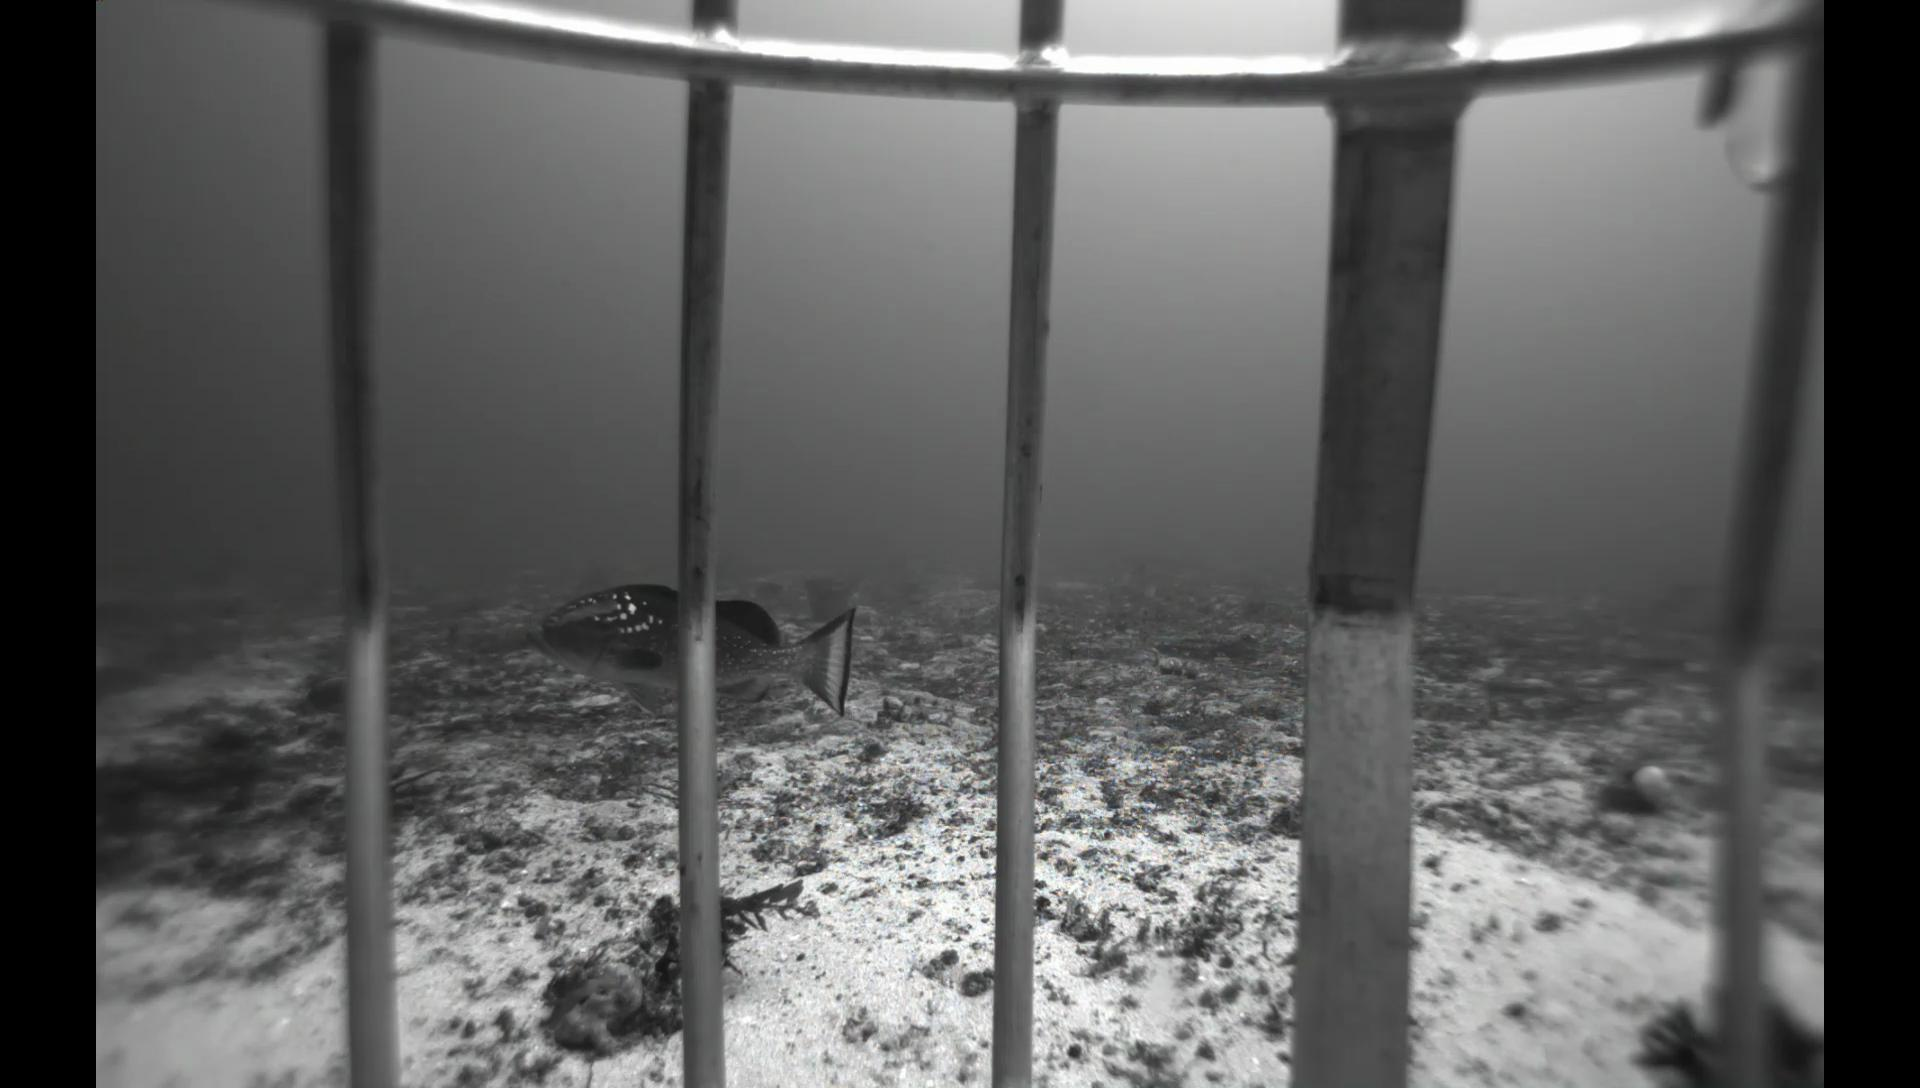CHAETODONOCELLATUS-170260307: (1114, 568, 1135, 587), (1139, 584, 1159, 600)
EPINEPHELUSMORIO-170021211: (517, 578, 858, 728)
HALICHOERESBIVITTATUS-170281202: (199, 692, 245, 720)
PRISTIGENYSALTA-170050401: (289, 675, 347, 717)
